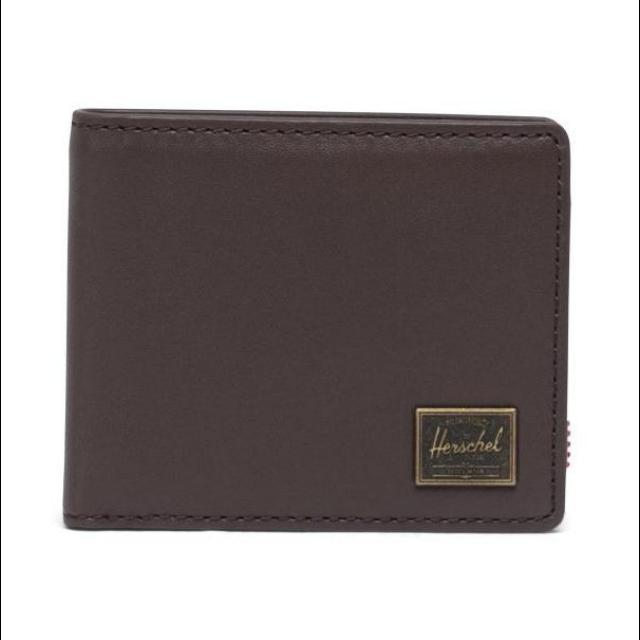wallet: (54, 100, 566, 538)
